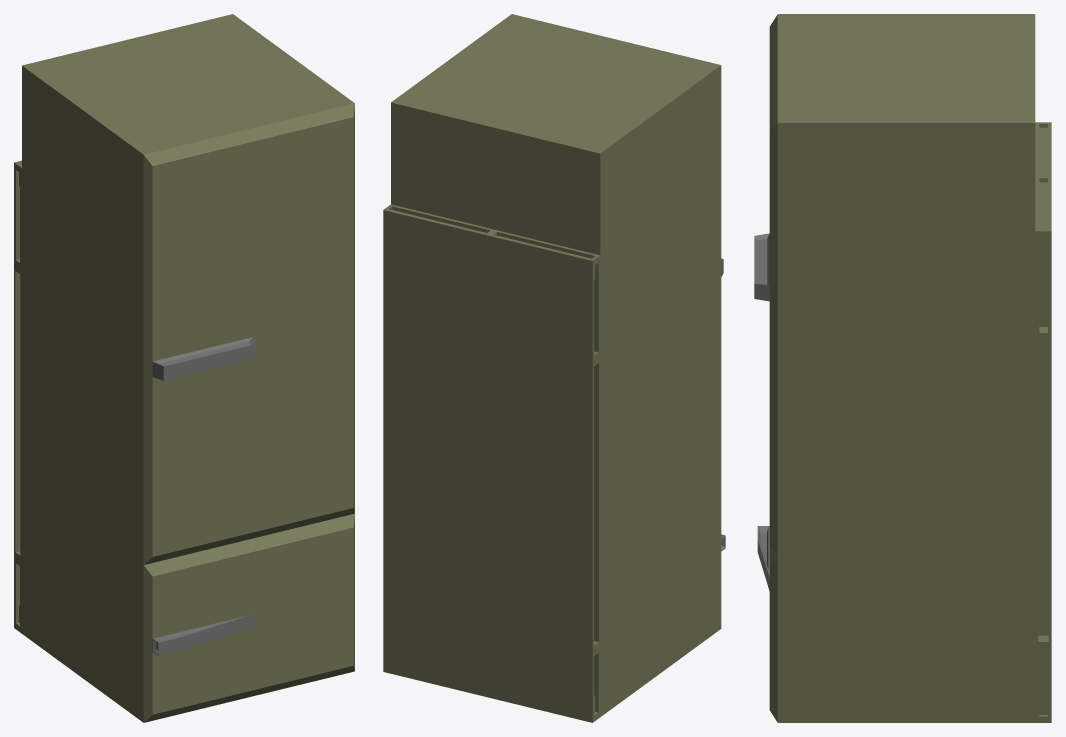
File: Fridge.fbx
3 views of the same model, side by side, from view 1: azimuth 30°, elevation 25°; view 2: azimuth 150°, elevation 25°; view 3: azimuth 270°, elevation 25° (orthographic). The views are drawn at different scales.
Visible parts, largest first — view 1: Cube; view 2: Cube; view 3: Cube.
Boxes of the visible parts, <box> form: Cube: <box>14,14,354,722</box>; Cube: <box>383,14,725,722</box>; Cube: <box>754,14,1051,722</box>.
Size of the model in its own units: 140 by 360 by 162.
